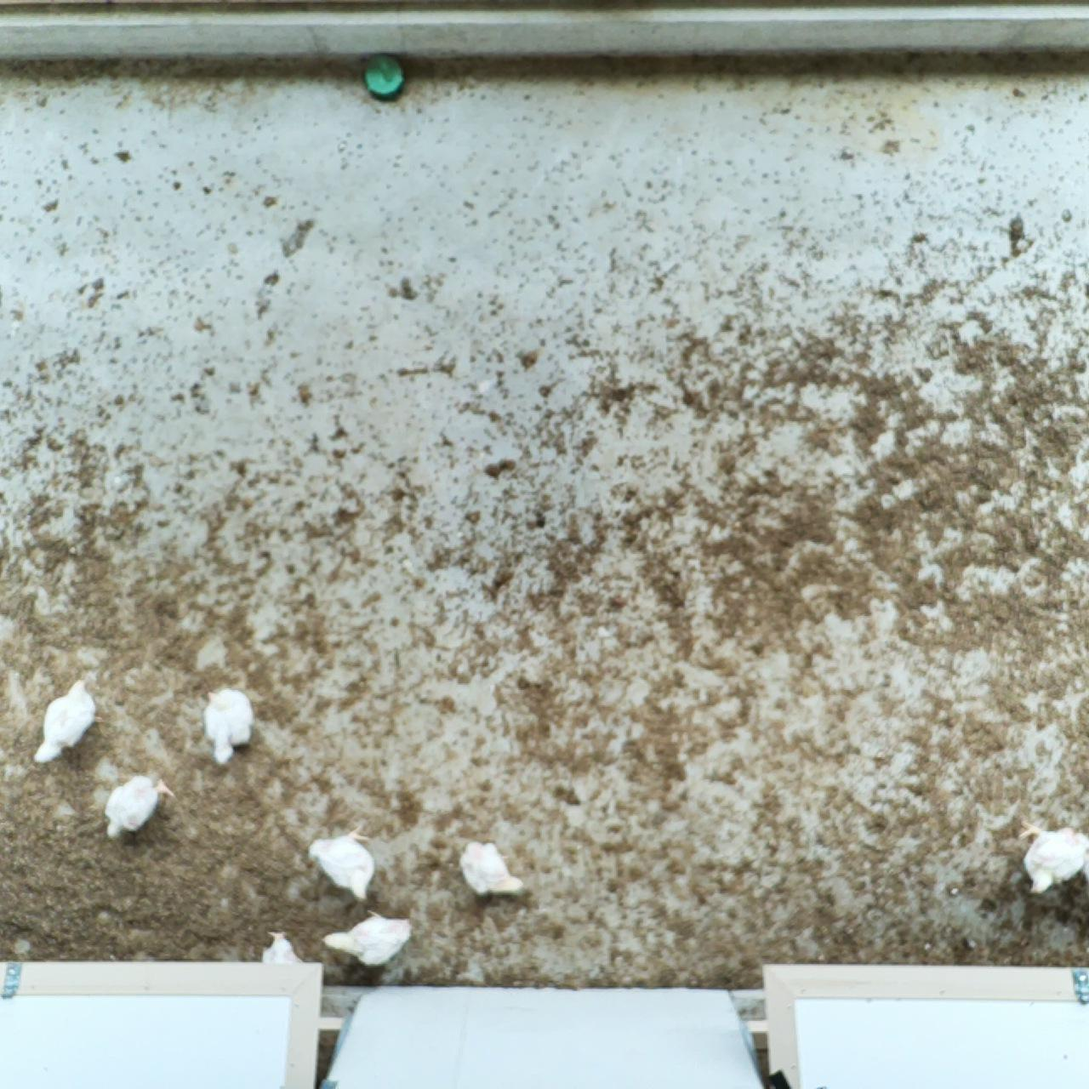chicken: (30, 673, 106, 771), (318, 906, 416, 974), (1011, 816, 1089, 897), (305, 819, 380, 903), (102, 773, 179, 843), (200, 683, 258, 769), (456, 837, 527, 898), (256, 925, 306, 967)
